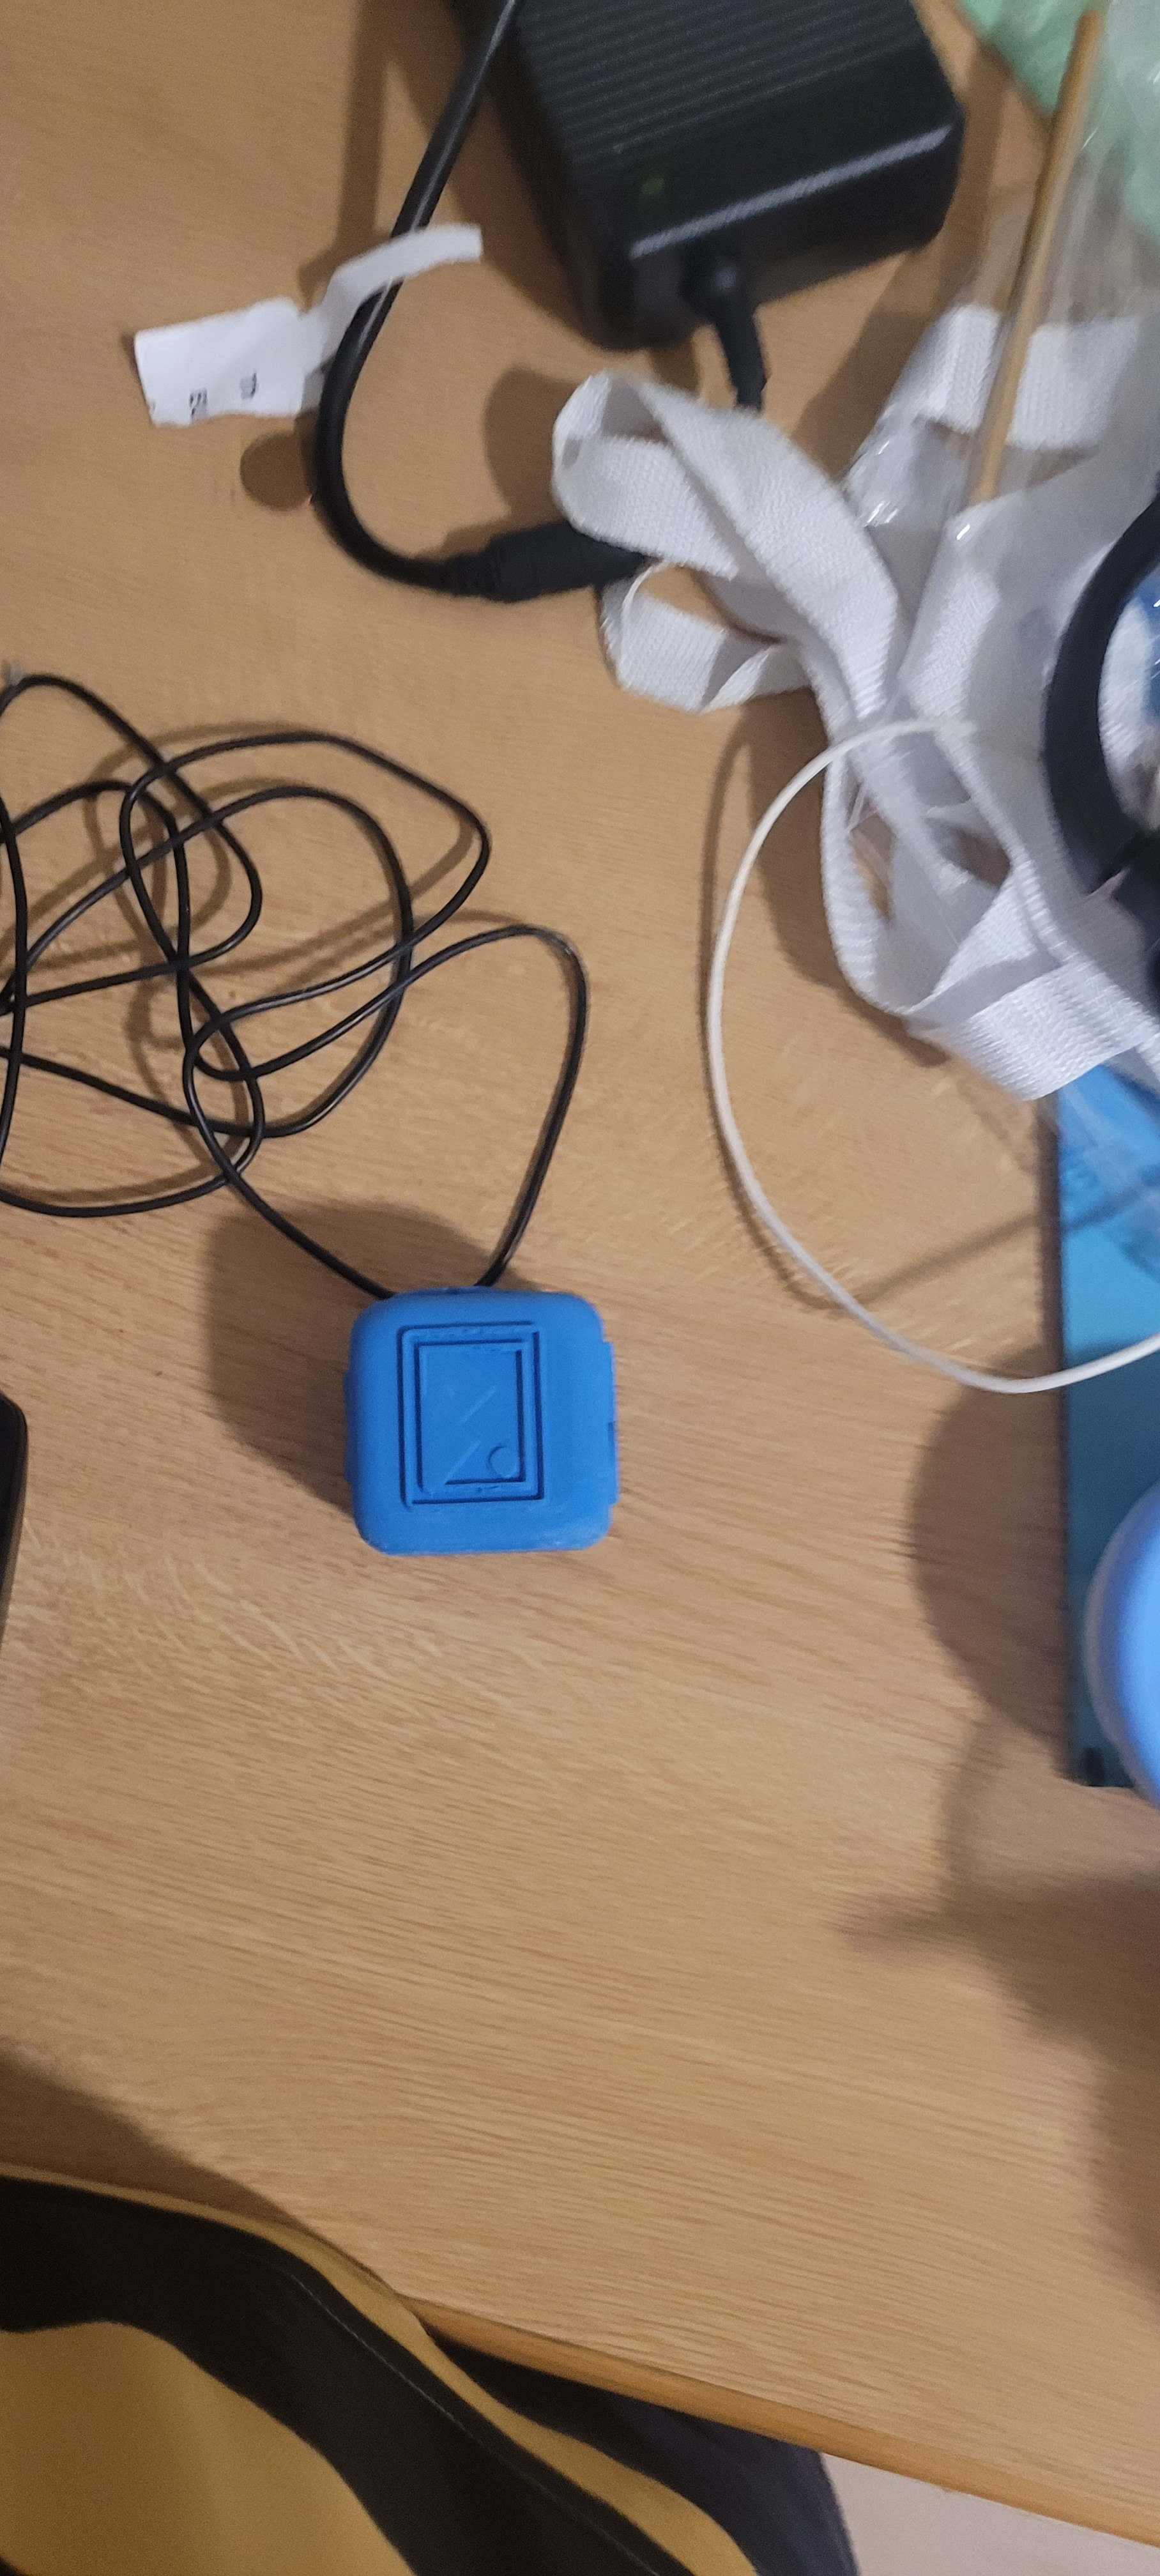Story: (366, 1311, 568, 1543)
